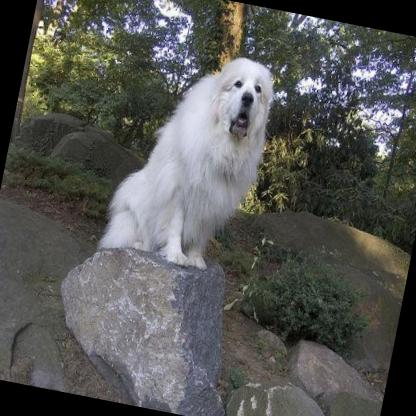Great_Pyrenees: (95, 33, 279, 274)
